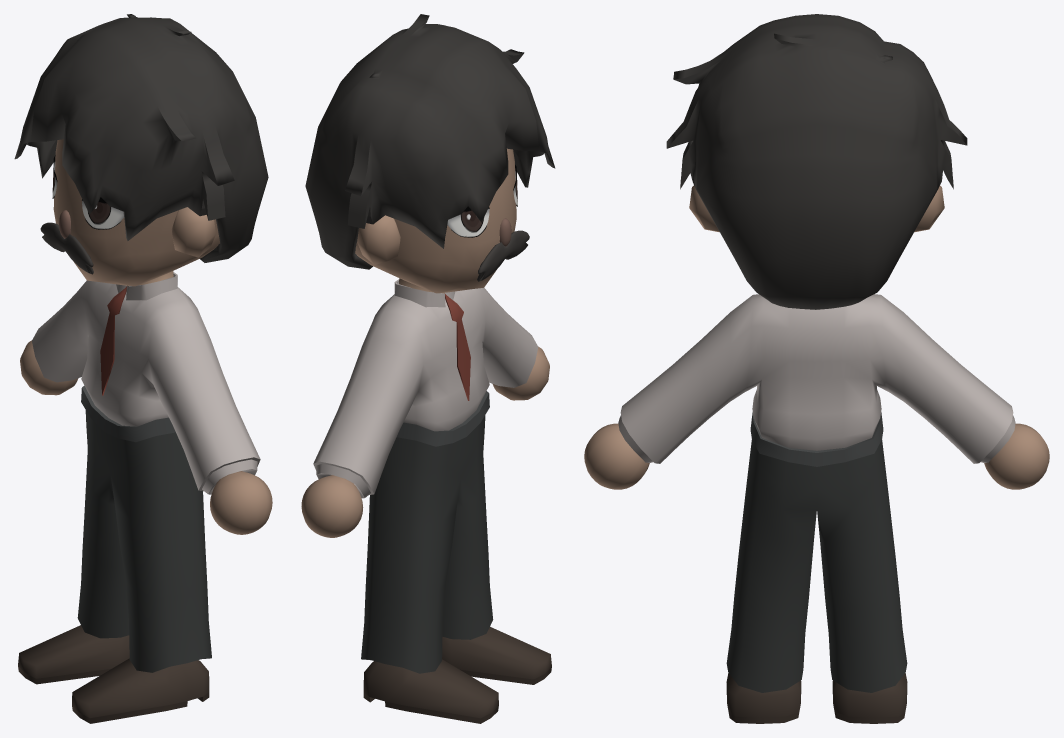
The model's file is Reggie_Fixed.fbx.
The picture shows the model from 3 angles, left to right: view 1: azimuth 30°, elevation 25°; view 2: azimuth 150°, elevation 25°; view 3: azimuth 270°, elevation 25°; orthographic projection. The views are drawn at different scales.
Parts seen in each view (by area): view 1: Business man, Reggie Eyes Card.004; view 2: Business man, Reggie Eyes Card.004; view 3: Business man.
Boxes of the visible parts, x1=… form: Business man: x1=14, y1=14, x2=272, y2=723; Reggie Eyes Card.004: x1=52, y1=155, x2=124, y2=229; Business man: x1=301, y1=14, x2=555, y2=723; Reggie Eyes Card.004: x1=447, y1=165, x2=517, y2=237; Business man: x1=584, y1=14, x2=1049, y2=723.
Bounding box in the file's own units: 0.9598 × 1.83 × 2.98.
Materials: 2 (2 with a texture image).
